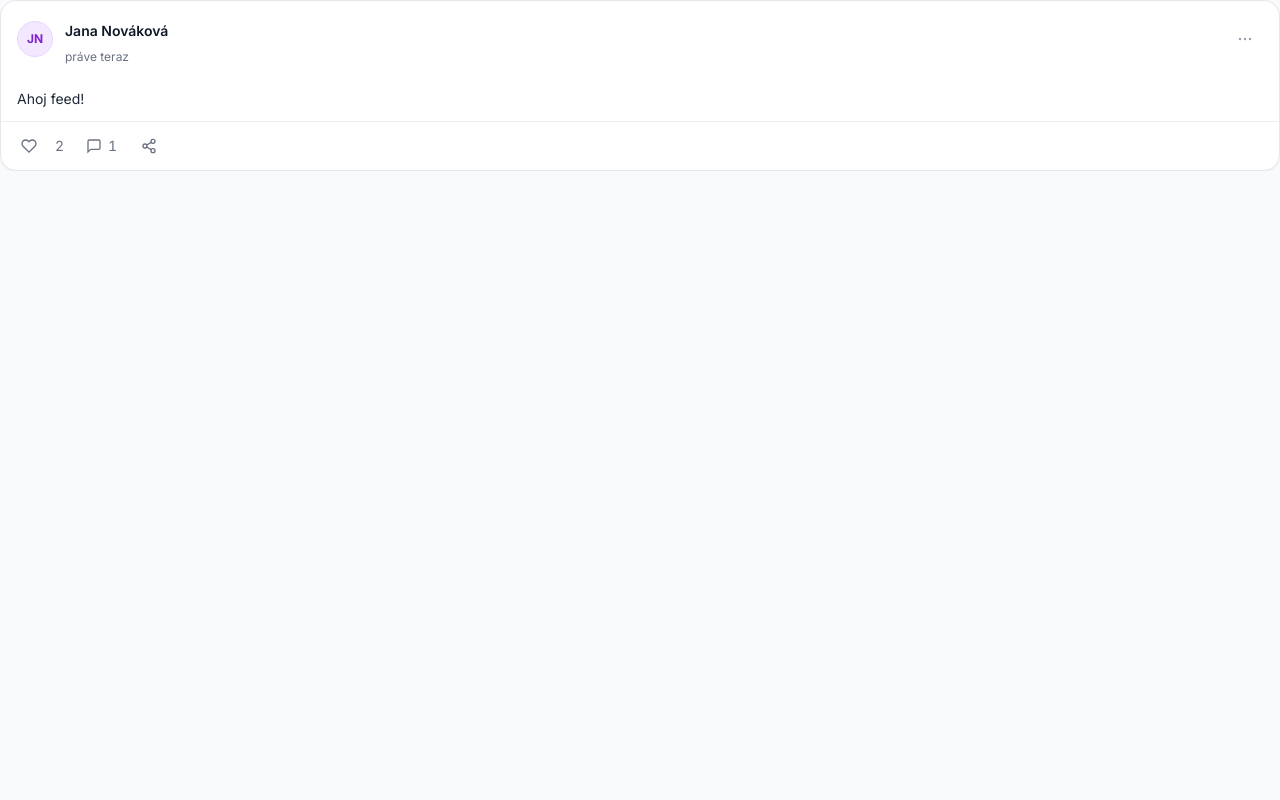
Test: FeedPostCard – nahlásenie › requires a description when the reason is "other"
Click the button with test id "feed-post-menu-trigger": click(1245, 39) [1227, 21, 1263, 57]
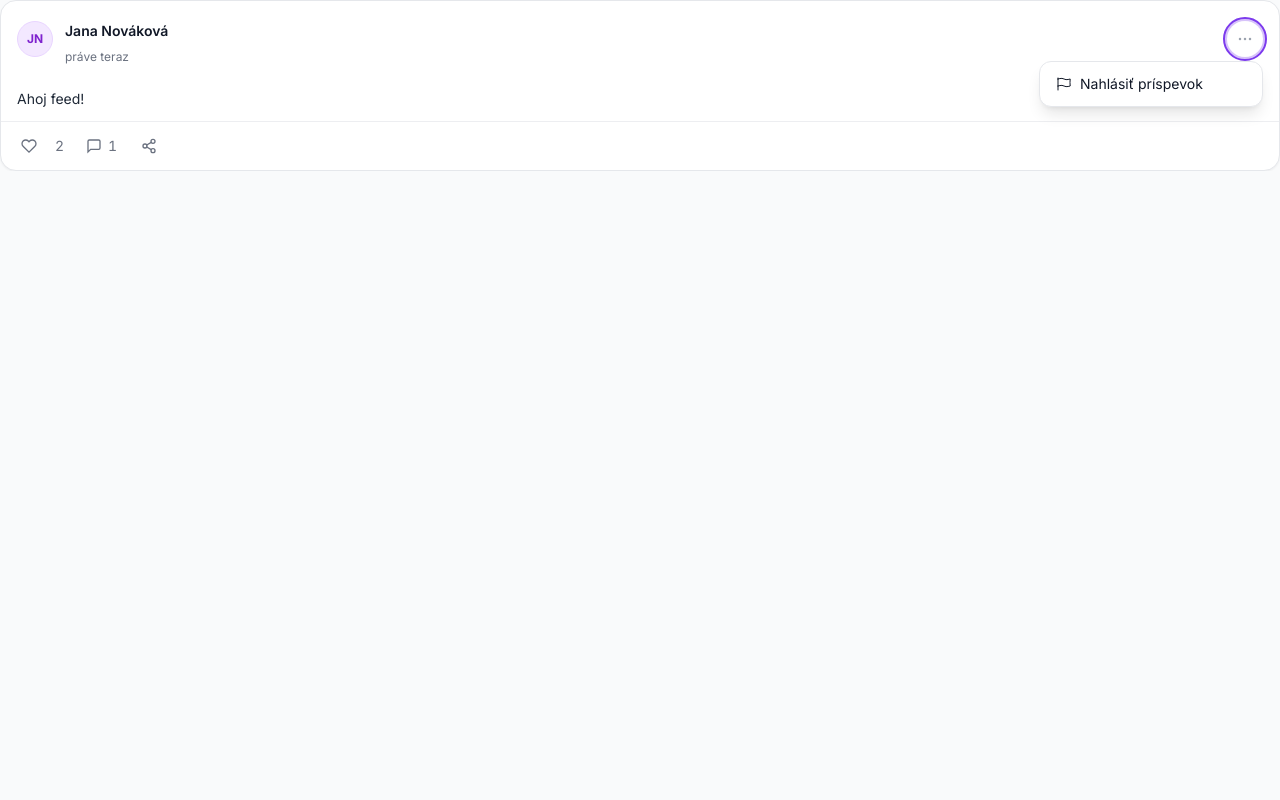
Click the menu item "Nahlásiť príspevok": click(1151, 84) [1040, 62, 1262, 106]
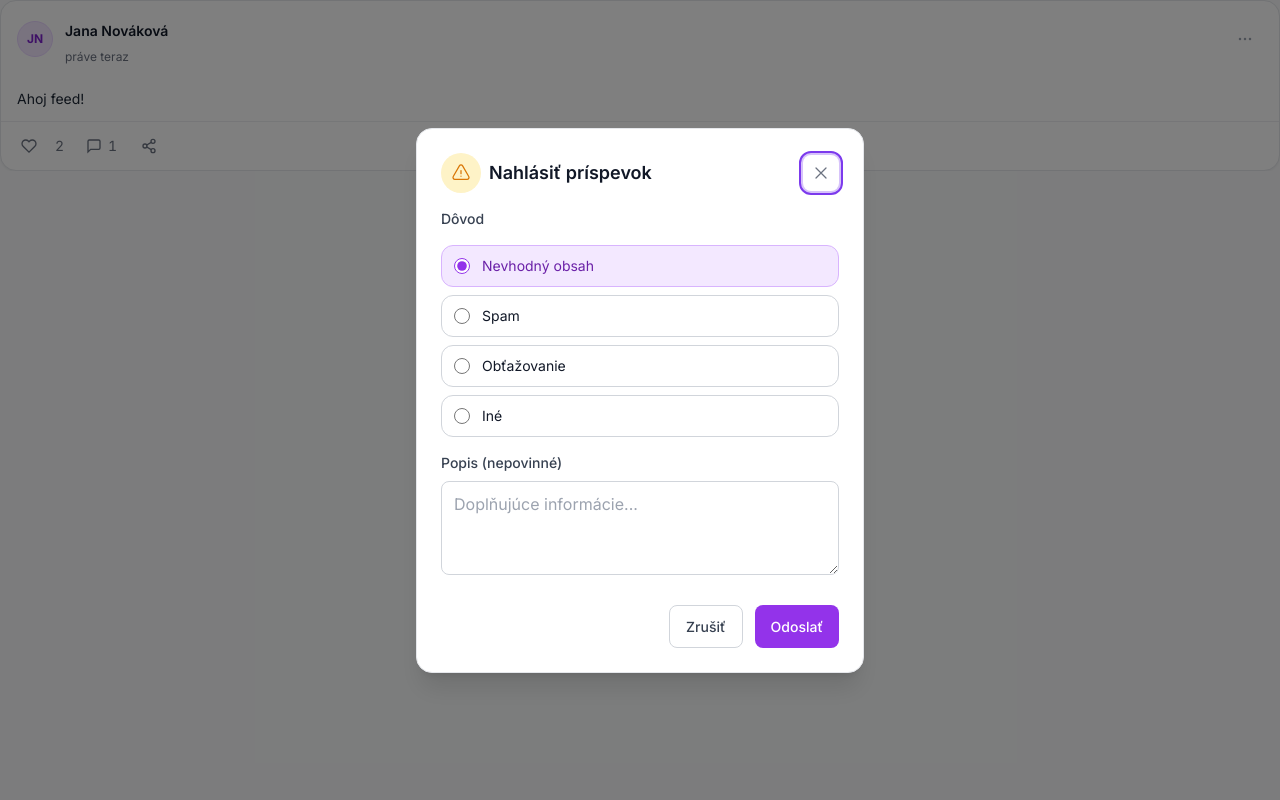
Click the radio button labelled "Iné": click(462, 416) [454, 408, 470, 424]
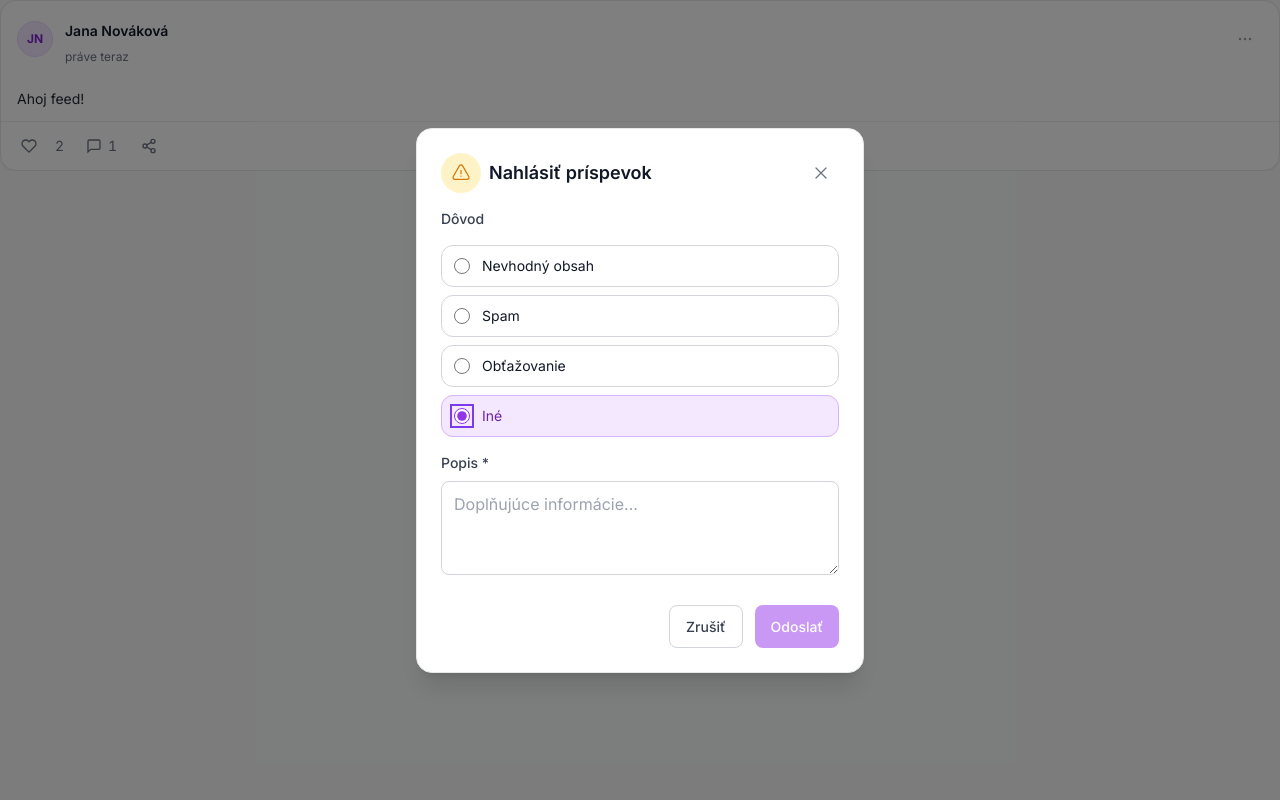
Expected: the button "Odoslať" is disabled, [755, 604, 839, 648]
Expected: the text "Popis *" is shown, [441, 454, 489, 470]
In the text box: (640, 528) [441, 480, 839, 574], type "Podvod"
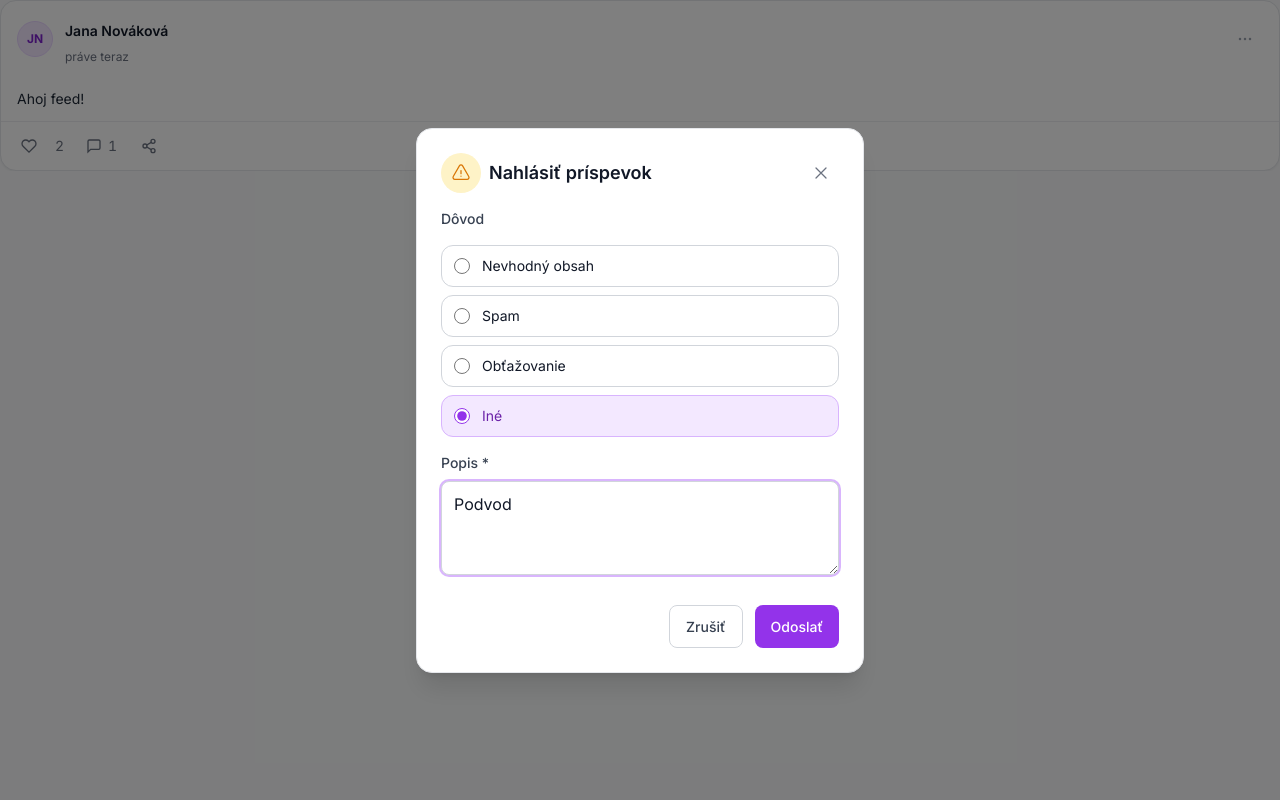
Expected: the button "Odoslať" is enabled, [755, 604, 839, 648]
